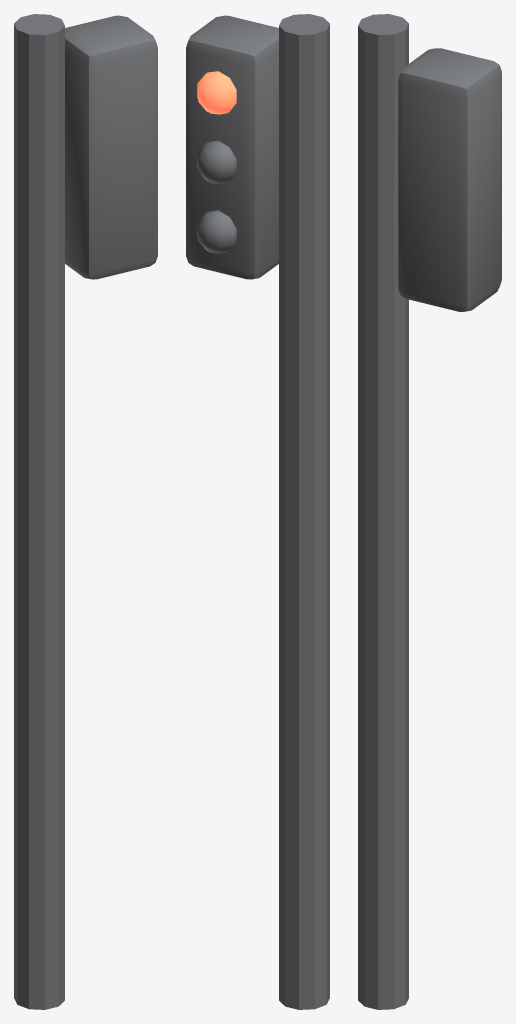
3 renders of one model, left to right at view 1: azimuth 30°, elevation 25°; view 2: azimuth 150°, elevation 25°; view 3: azimuth 330°, elevation 25°, orthographic.
Parts seen in each view (by area): view 1: signal; view 2: signal; view 3: signal.
Part boxes in pixels (x1,y1,x2,y2): signal: (14,14,157,1009); signal: (186,14,329,1009); signal: (358,14,501,1009).
Bounding box in the file's own units: 0.57 × 4.2 × 0.3856.
